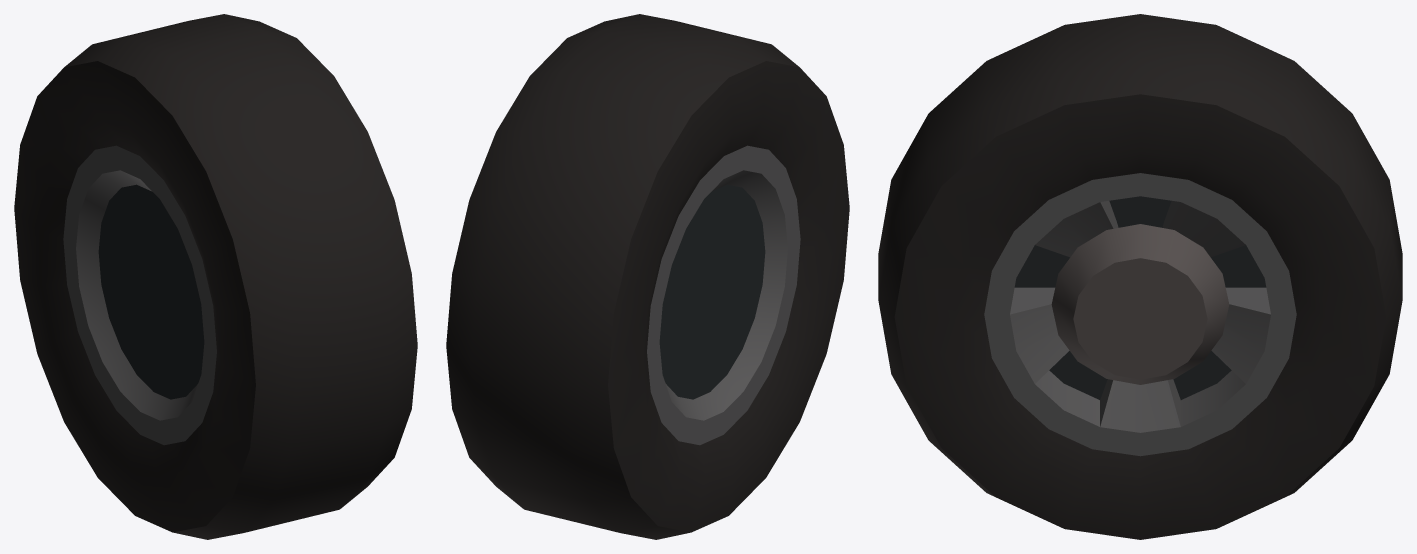
File: Apocalypse_Car_01_Wheel_FL.fbx
3 views of the same model, side by side, from view 1: azimuth 30°, elevation 25°; view 2: azimuth 150°, elevation 25°; view 3: azimuth 270°, elevation 25° (orthographic).
Visible parts, largest first — view 1: Apocalypse_Car_01_Wheel_FL; view 2: Apocalypse_Car_01_Wheel_FL; view 3: Apocalypse_Car_01_Wheel_FL.
Part boxes in pixels (<box>): Apocalypse_Car_01_Wheel_FL: <box>14,14,417,539</box>; Apocalypse_Car_01_Wheel_FL: <box>446,14,849,539</box>; Apocalypse_Car_01_Wheel_FL: <box>878,14,1402,539</box>.
Size of the model in its own units: 29.34 by 75.96 by 75.96.
